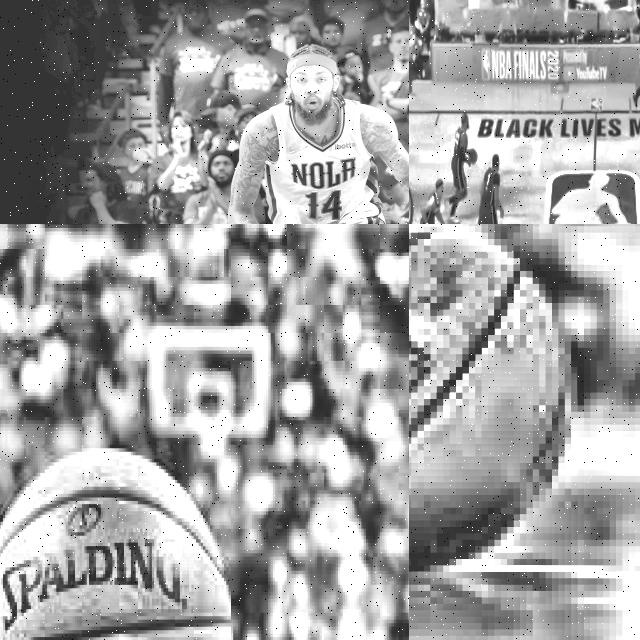Basketball: (0, 452, 233, 640), (467, 148, 477, 163)
